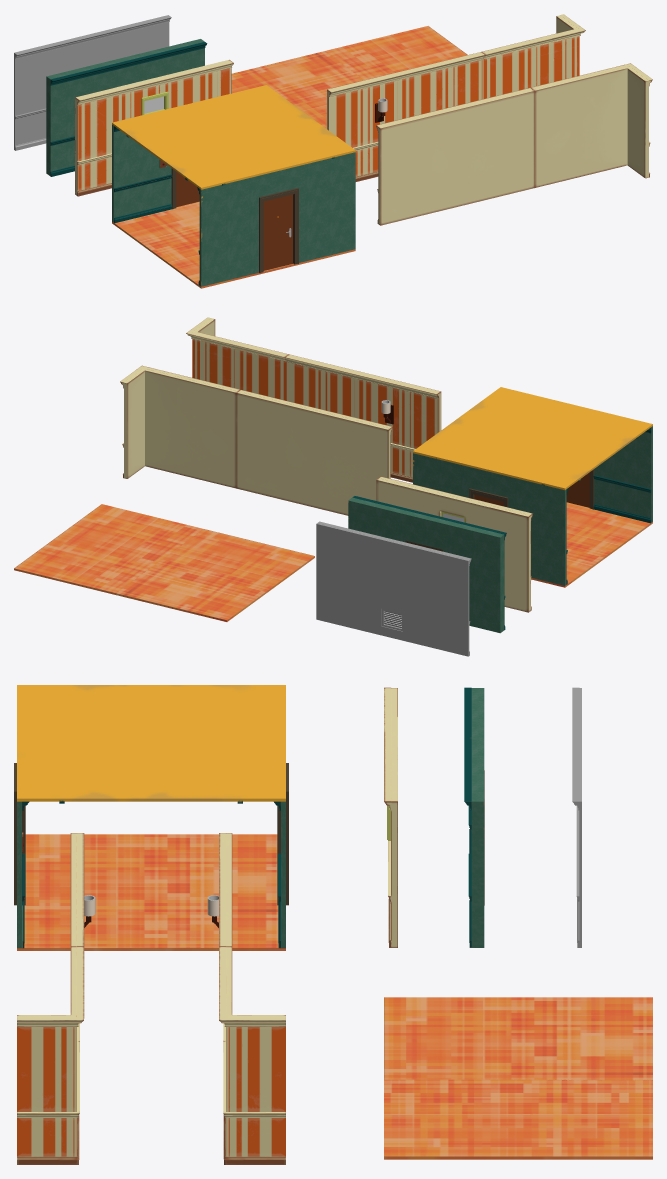
File: BASIC_ASSETS 2.fbx
The picture shows the model from 3 angles, top to bottom: view 1: azimuth 30°, elevation 25°; view 2: azimuth 150°, elevation 25°; view 3: azimuth 270°, elevation 25°; orthographic projection. The views are drawn at different scales.
Parts seen in each view (by area): view 1: wall10, ceiling10, wall_w_Door30, CornerWall1, wall9, wall_w_window, wall_w_Vent, wall_w_Elevator, CornerWall3, ground12, ground4, wall_w_Door14 (+4 smaller); view 2: wall_w_Vent, wall9, ceiling10, CornerWall3, ground12, ground19, wall10, wall_w_Elevator, wall_w_Door14, wall_w_window, CornerWall1, wall_w_Door30 (+2 smaller); view 3: ceiling10, ground4, ground12, ground19, CornerWall1, CornerWall3, wall_w_Elevator, wall_w_window, wall_w_Vent, wall10, wall9, wall_w_Door30 (+1 smaller).
Part boxes in pixels (x1,y1,x2,y2): wall10: (376,87,534,225); ceiling10: (112,85,355,189); wall_w_Door30: (197,152,355,286); CornerWall1: (531,63,652,187); wall9: (327,52,485,181); wall_w_window: (75,59,233,196); wall_w_Vent: (14,15,171,150); wall_w_Elevator: (46,39,207,176); CornerWall3: (481,14,585,98); ground12: (231,51,363,128); ground4: (112,201,355,288); wall_w_Door14: (112,125,172,223); wall_w_Vent: (316,521,471,656); wall9: (236,390,392,515); ceiling10: (413,387,652,490); CornerWall3: (120,365,240,488); ground12: (116,529,314,621); ground19: (14,504,203,594); wall10: (285,354,441,482); wall_w_Elevator: (348,496,506,633); wall_w_Door14: (413,453,568,585); wall_w_window: (376,476,532,612); CornerWall1: (186,317,288,400); wall_w_Door30: (593,426,652,523); ceiling10: (17,685,285,803); ground4: (17,834,285,950); ground12: (384,997,652,1080); ground19: (384,1079,652,1159); CornerWall1: (17,946,84,1164); CornerWall3: (219,946,285,1164); wall_w_Elevator: (464,687,484,947); wall_w_window: (384,687,397,947); wall_w_Vent: (572,687,581,947); wall10: (70,833,84,1041); wall9: (219,833,232,1041); wall_w_Door30: (17,801,29,948).
Size of the model in its own units: 29.25 by 6.24 by 23.74.
